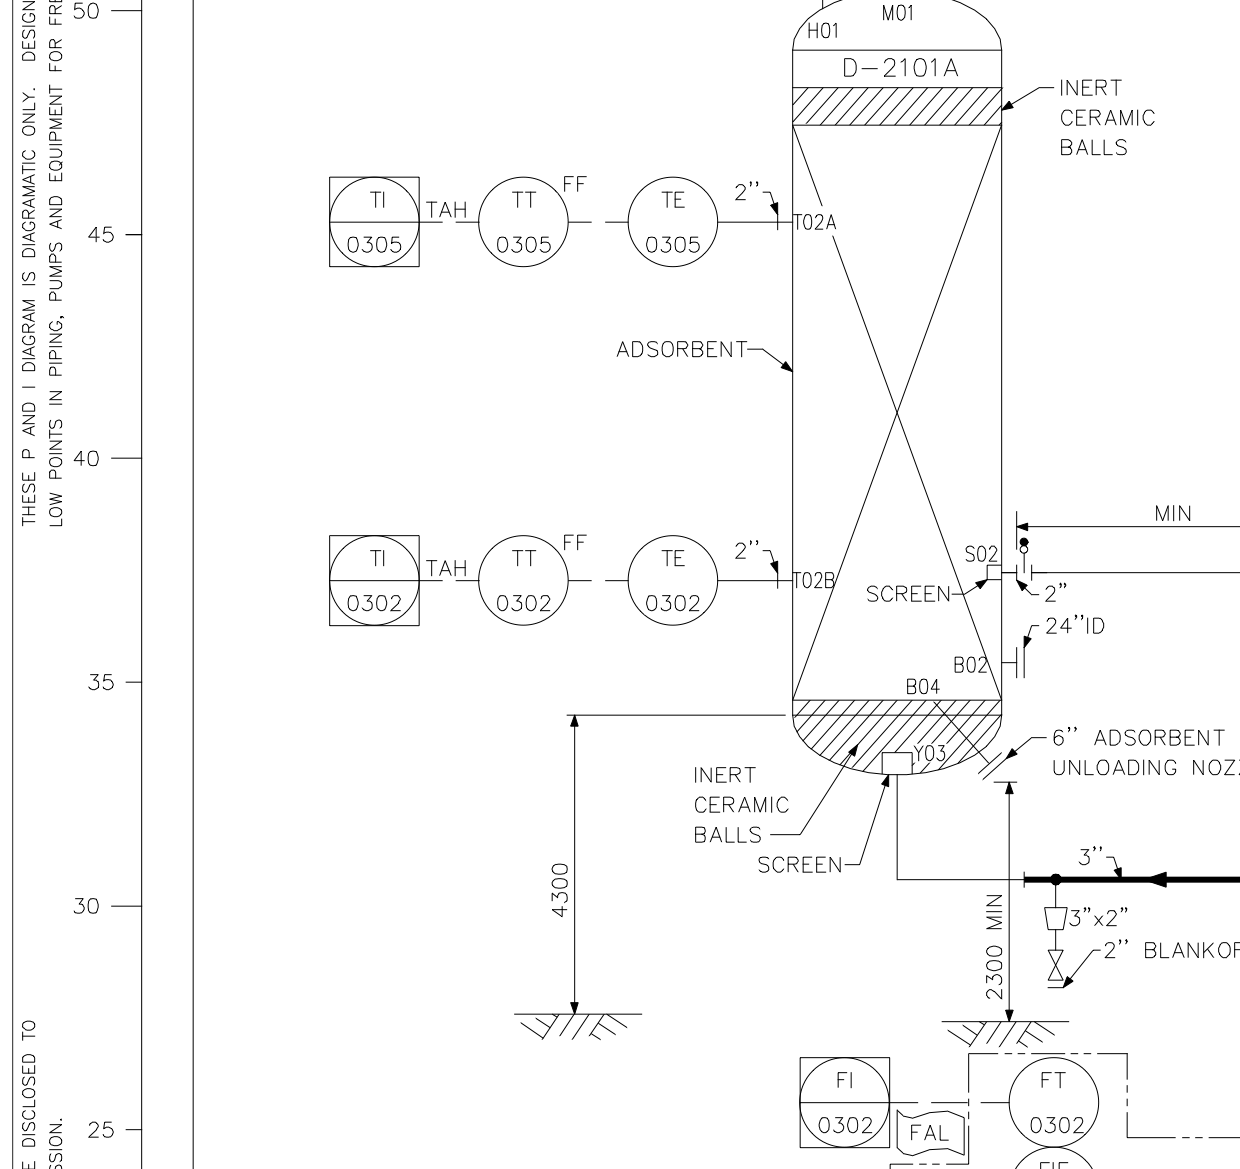Intrument Tag: (321, 528, 427, 632), (623, 532, 729, 635), (999, 1055, 1106, 1158), (471, 533, 577, 636), (472, 174, 578, 277), (321, 171, 427, 274), (621, 170, 727, 272), (791, 1051, 897, 1154)
Reducer: (1041, 900, 1074, 936)
Spetacle Blind: (1015, 536, 1037, 586)
Valve: (1044, 946, 1070, 983)
